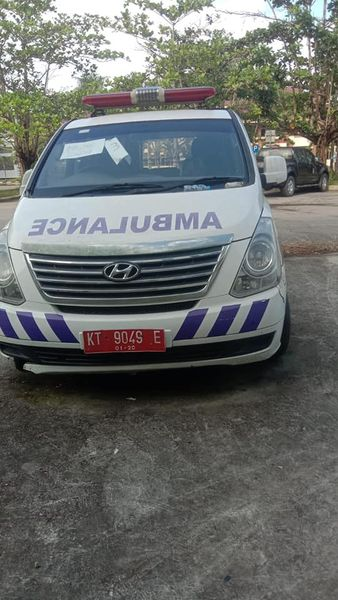plate: (82, 329, 167, 354)
